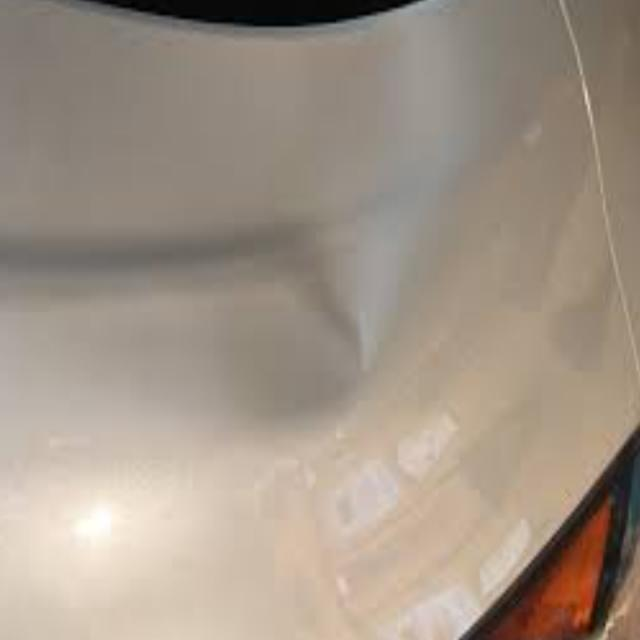dents: (216, 221, 374, 413)
